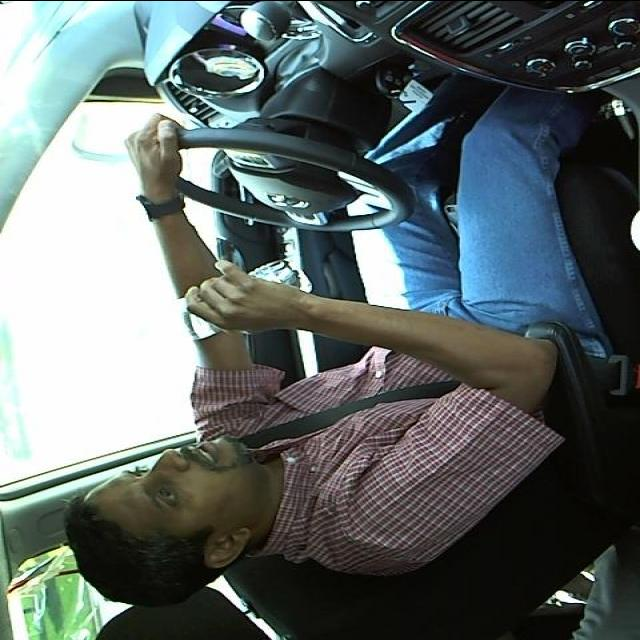drinking: (150, 254, 314, 344)
